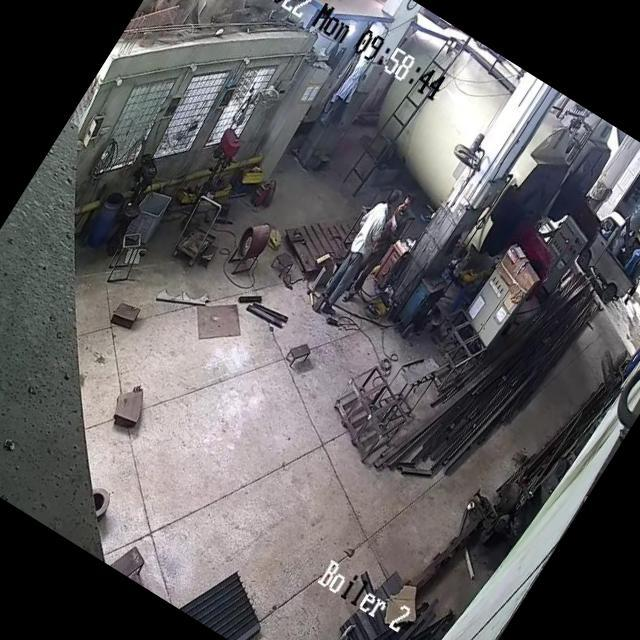person: (318, 182, 404, 308), (340, 188, 426, 304)
